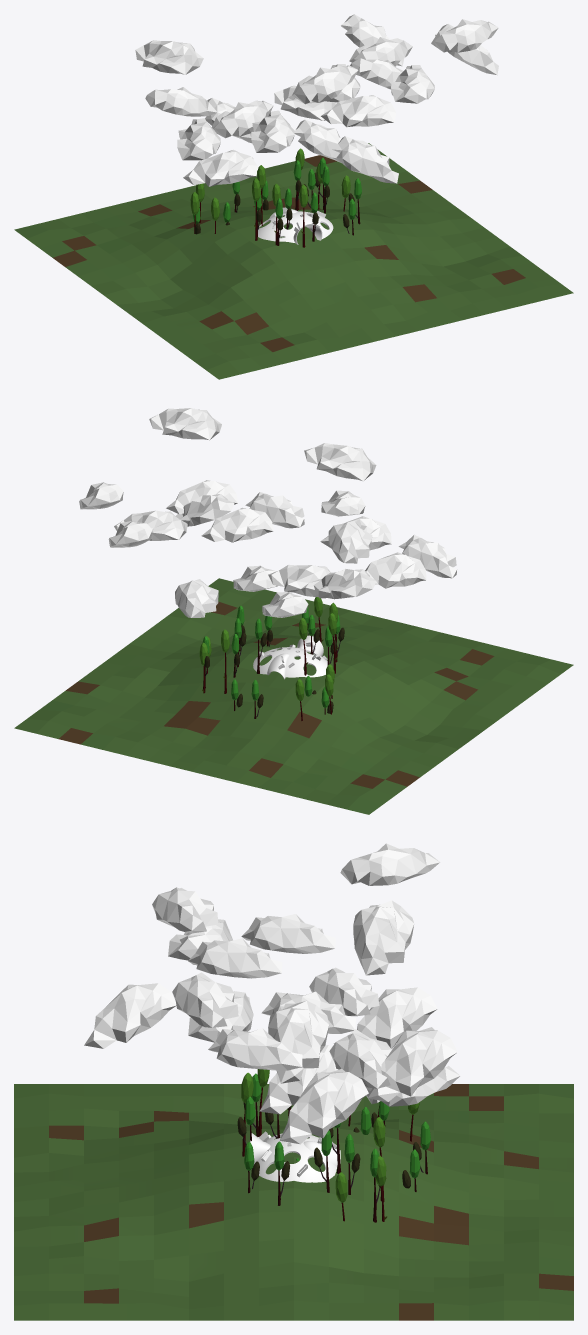
The model's file is GabrielvonSchinckel.gltf.
3 views of the same model, one above another, from view 1: azimuth 30°, elevation 25°; view 2: azimuth 150°, elevation 25°; view 3: azimuth 270°, elevation 25° (orthographic). The views are drawn at different scales.
Parts seen in each view (by area): view 1: Terrain 3, RG_Cloud-04 (1) (×6), RG_Cloud-04 (3) (×4), RG_Cloud-04 (2) (×4), RG_Cloud-04 (×3), 3dmodel; view 2: Terrain 3, RG_Cloud-04 (1) (×7), RG_Cloud-04 (×4), RG_Cloud-04 (3) (×4), RG_Cloud-04 (2) (×4), 3dmodel; view 3: Terrain 3, RG_Cloud-04 (1) (×7), RG_Cloud-04 (2) (×4), RG_Cloud-04 (×4), RG_Cloud-04 (3) (×4), 3dmodel.
Part boxes in pixels (x1,y1,x2,y2): Terrain 3: [14, 143, 573, 379]; RG_Cloud-04 (1) (×6): [145, 14, 498, 183]; RG_Cloud-04 (3) (×4): [135, 40, 395, 186]; RG_Cloud-04 (2) (×4): [211, 37, 434, 152]; RG_Cloud-04 (×3): [177, 19, 498, 160]; 3dmodel: [258, 207, 333, 244]; Terrain 3: [14, 578, 573, 814]; RG_Cloud-04 (1) (×7): [79, 482, 376, 617]; RG_Cloud-04 (×4): [149, 408, 426, 588]; RG_Cloud-04 (3) (×4): [175, 492, 456, 617]; RG_Cloud-04 (2) (×4): [114, 480, 391, 596]; 3dmodel: [253, 635, 327, 679]; Terrain 3: [14, 1084, 573, 1320]; RG_Cloud-04 (1) (×7): [84, 900, 457, 1144]; RG_Cloud-04 (2) (×4): [188, 938, 391, 1088]; RG_Cloud-04 (×4): [152, 887, 355, 1033]; RG_Cloud-04 (3) (×4): [168, 843, 460, 1106]; 3dmodel: [250, 1131, 340, 1182].
Bounding box in the file's own units: 0.6723 × 0.4027 × 0.625.
Materials: 4 (2 with a texture image).
